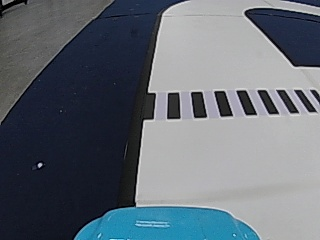CrossWalk: (144, 85, 320, 121)
